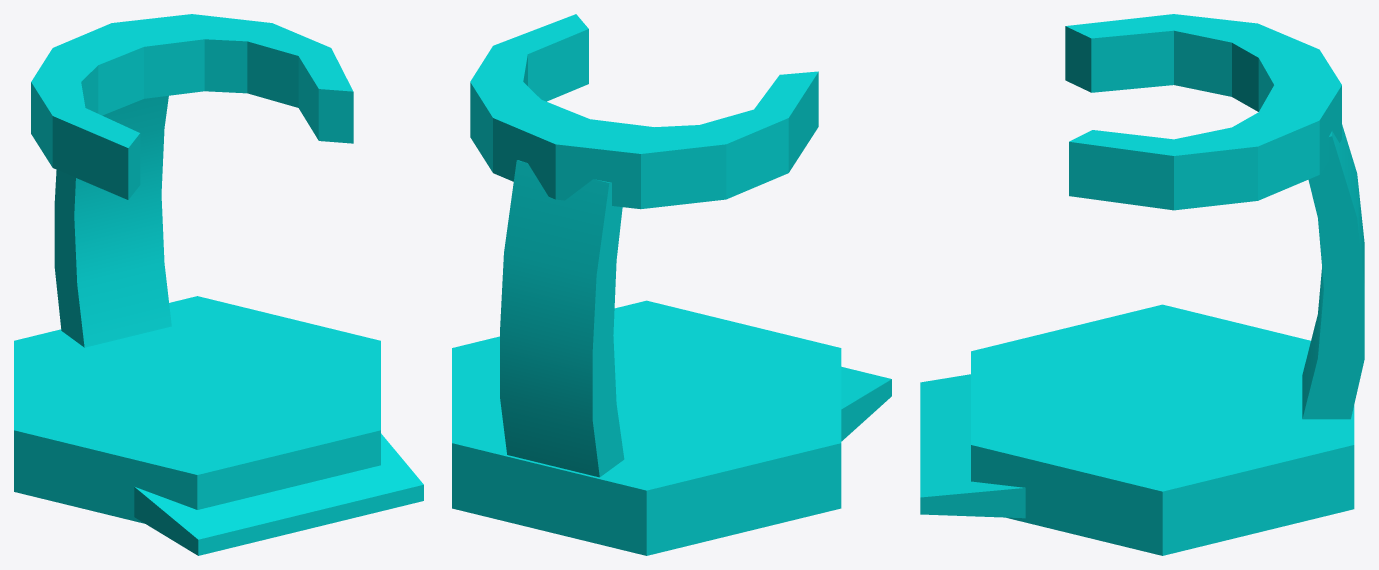
The model's file is SM_Prop_Robot_Charger_01_Collision.fbx.
3 renders of one model, left to right at view 1: azimuth 30°, elevation 25°; view 2: azimuth 150°, elevation 25°; view 3: azimuth 270°, elevation 25°, orthographic. The views are drawn at different scales.
Parts seen in each view (by area): view 1: SM_Prop_Robot_Charger_01_Collision; view 2: SM_Prop_Robot_Charger_01_Collision; view 3: SM_Prop_Robot_Charger_01_Collision.
Boxes of the visible parts, box(x1,y1,x2,y2) form: SM_Prop_Robot_Charger_01_Collision: box(14, 14, 423, 555); SM_Prop_Robot_Charger_01_Collision: box(452, 14, 891, 555); SM_Prop_Robot_Charger_01_Collision: box(920, 14, 1364, 555).
Size of the model in its own units: 140 by 132 by 140.
